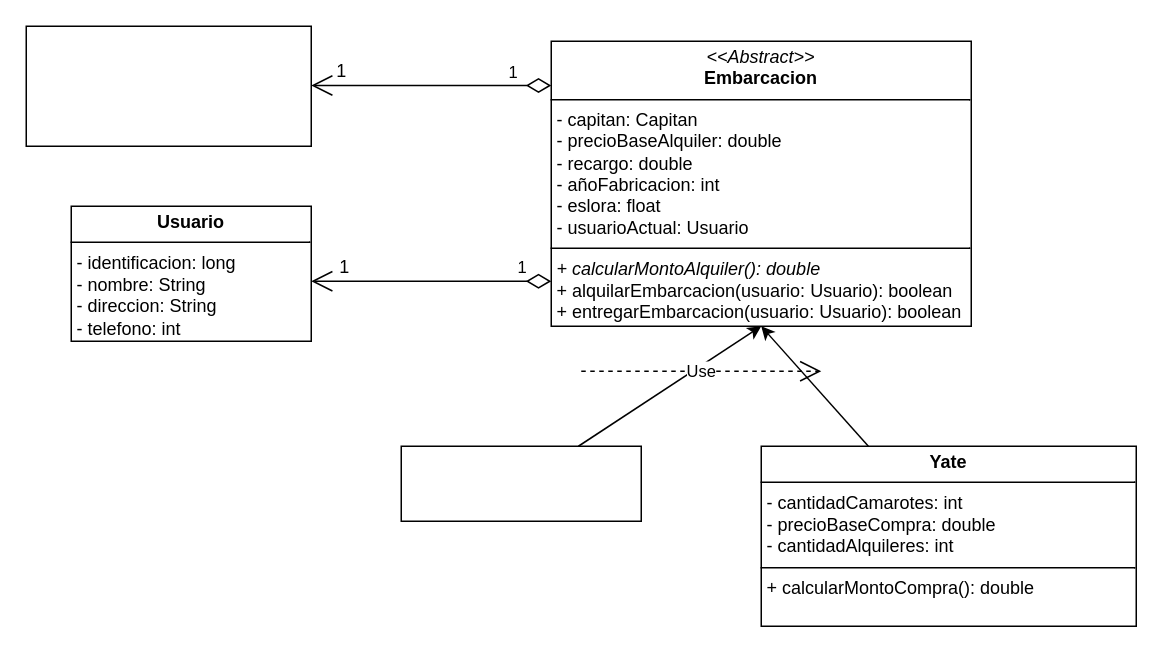
The diagram is 1163 pixels wide and 653 high, and some of its shapes have lost their labels. Here are the shapes that lost their labels. From the top down, the box of each, then its label:
(25, 25, 311, 146): Capitan - nombre: String - apellido: String - matriculaNavegacion: long
(400, 445, 641, 521): Velero - cantidadMastiles: int
